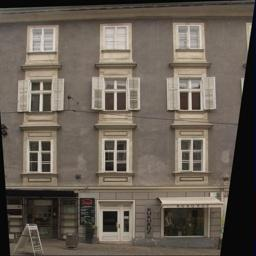building: (0, 1, 256, 248)
